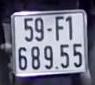1: (66, 15, 76, 42)
5: (21, 15, 35, 43), (58, 42, 71, 69), (72, 43, 82, 67)
6: (16, 46, 28, 72)
8: (29, 45, 41, 72)
9: (42, 43, 56, 72), (34, 17, 46, 43)
F: (53, 15, 66, 43)
